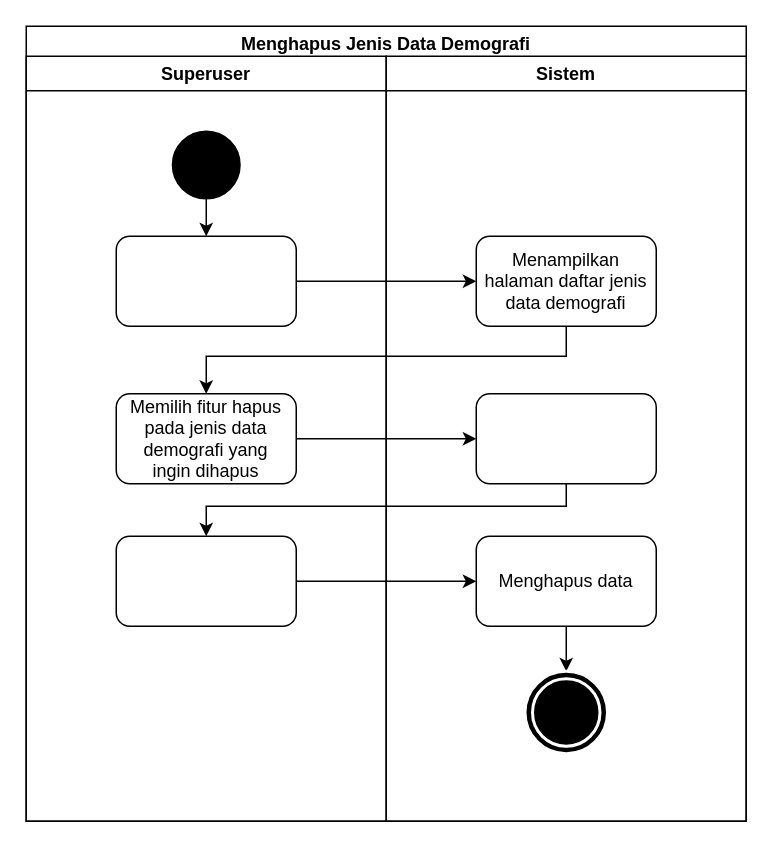
Image size: 773x848. Some labels were removed from this diagram. Here are the shapes that lost their labels. From the top down, the centre of each, then its label:
At point (205, 280): "Membuka halaman daftar jenis data demografi".
At point (565, 438): "Memunculkan dialog konfirmasi".
At point (205, 580): "Melakukan konfirmasi".
